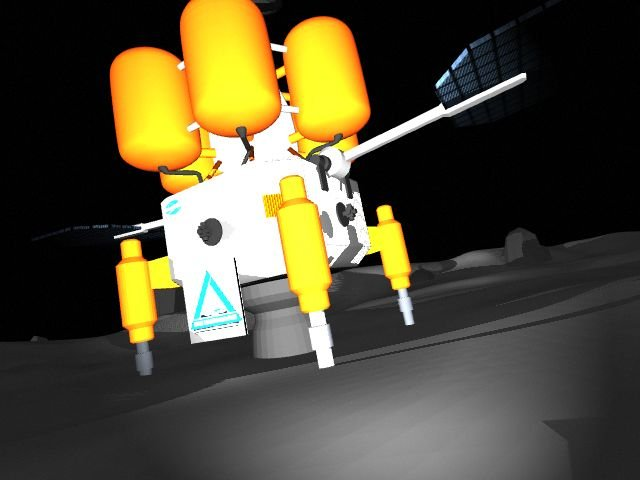basemarker: (189, 270, 243, 334)
